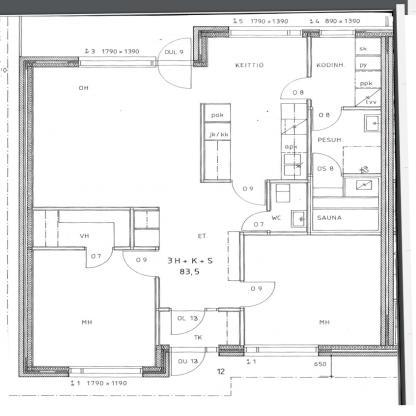door: (151, 36, 199, 92), (224, 177, 278, 212), (162, 345, 215, 378), (236, 277, 283, 310), (165, 305, 209, 338), (308, 150, 352, 180), (309, 101, 347, 135), (238, 206, 282, 235), (275, 74, 320, 102), (78, 242, 118, 270)
window: (68, 52, 160, 76), (62, 361, 146, 383), (240, 343, 326, 361), (227, 24, 305, 42), (312, 24, 364, 41)
